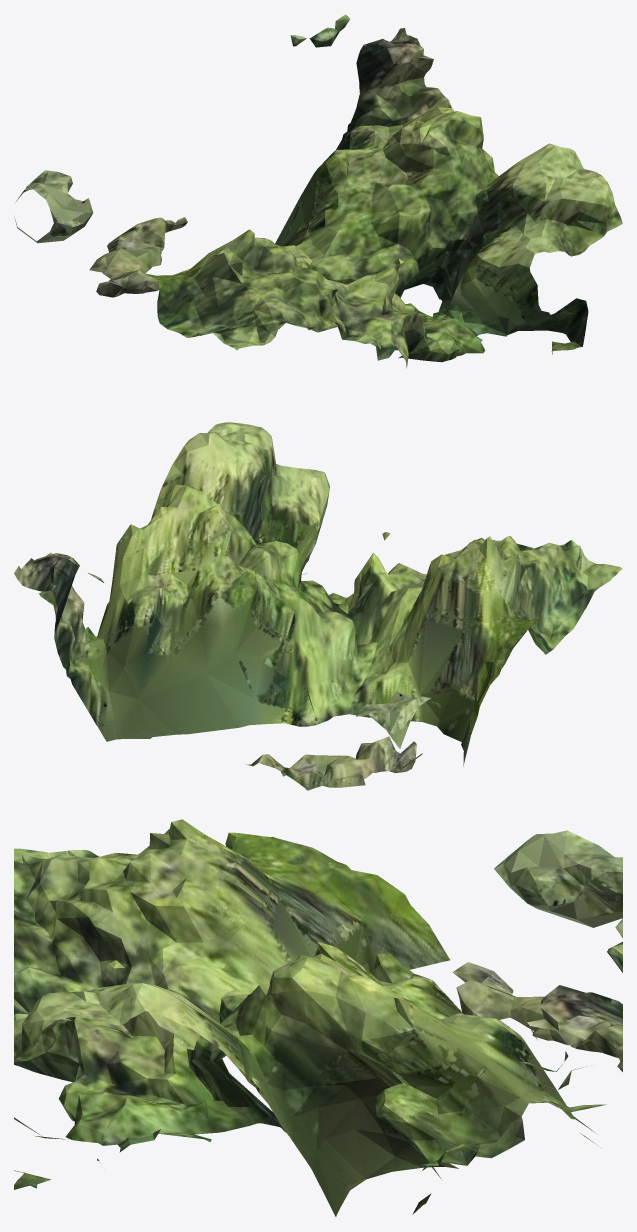
3 renders of one model, top to bottom at view 1: azimuth 30°, elevation 25°; view 2: azimuth 150°, elevation 25°; view 3: azimuth 270°, elevation 25°, orthographic. The views are drawn at different scales.
Bounding box in the file's own units: 26.11 × 11.21 × 26.11.
Materials: 4 (4 with a texture image).
